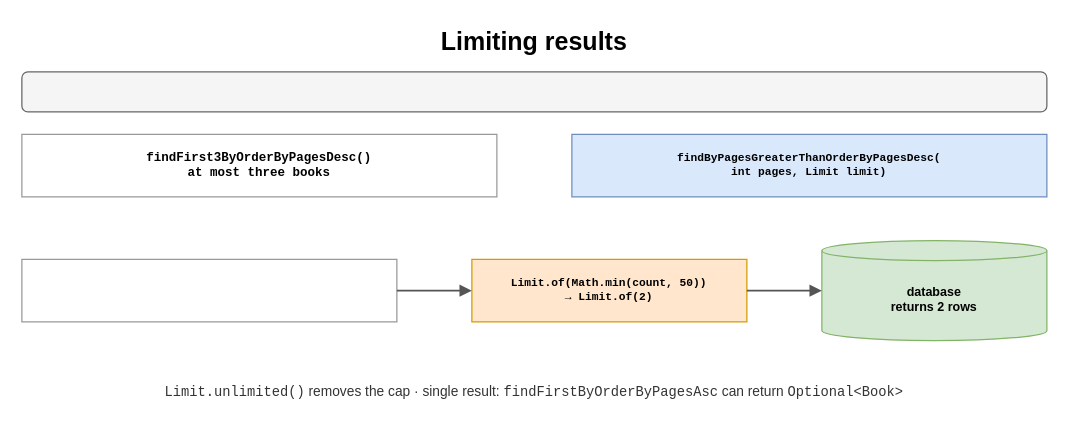
Image size: 1069x435. Some labels were removed from this diagram. Each missing label, with the centre of its shape:
"GET /api/books/longest?count=2" goes at point (209, 290).
"The database applies the limit, so discarded rows are never loaded" goes at point (534, 91).
